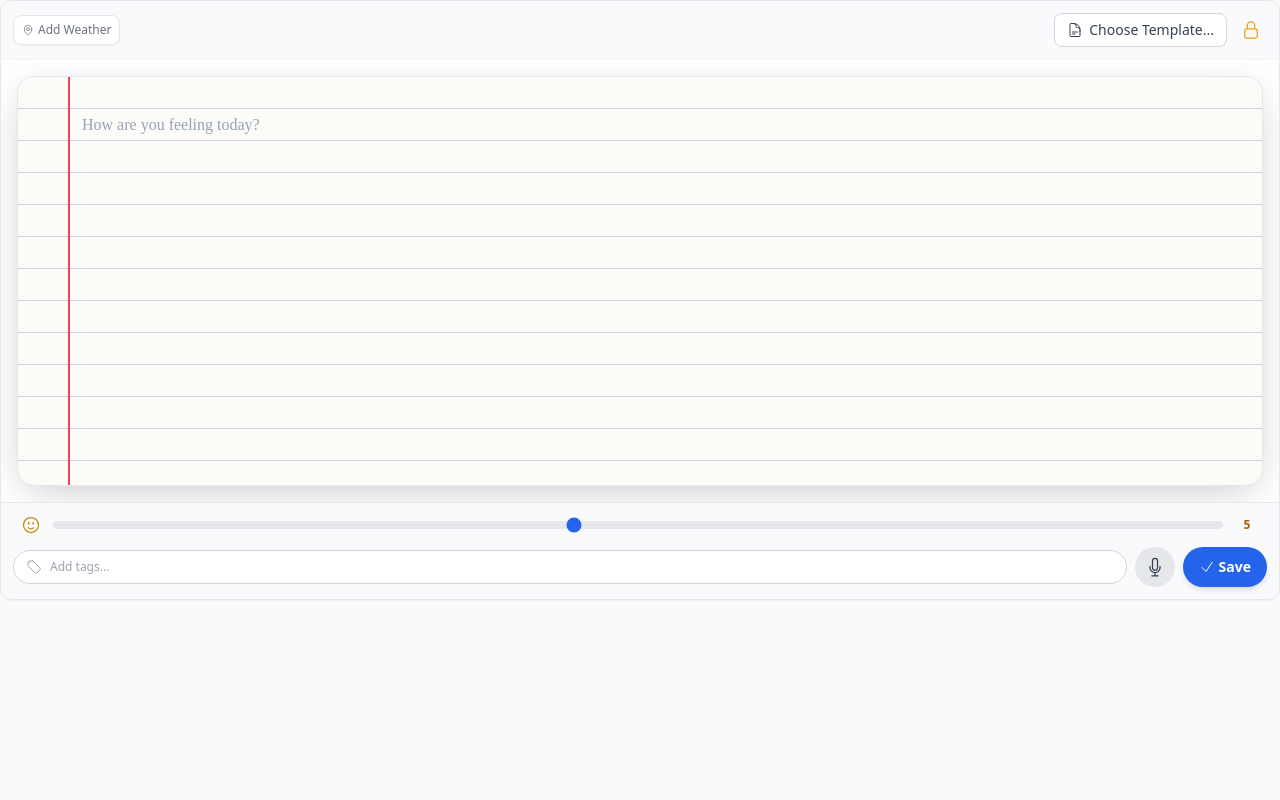
Test: JournalEditor tag suggestions and smart mood (PROJ-59) › offers previously-used tags fetched via useFirestoreQuery as suggestions
The image size is (1280, 800).
Type "Gra" into the field with placeholder "Add tags..." at (137, 567), box [50,559,224,575]
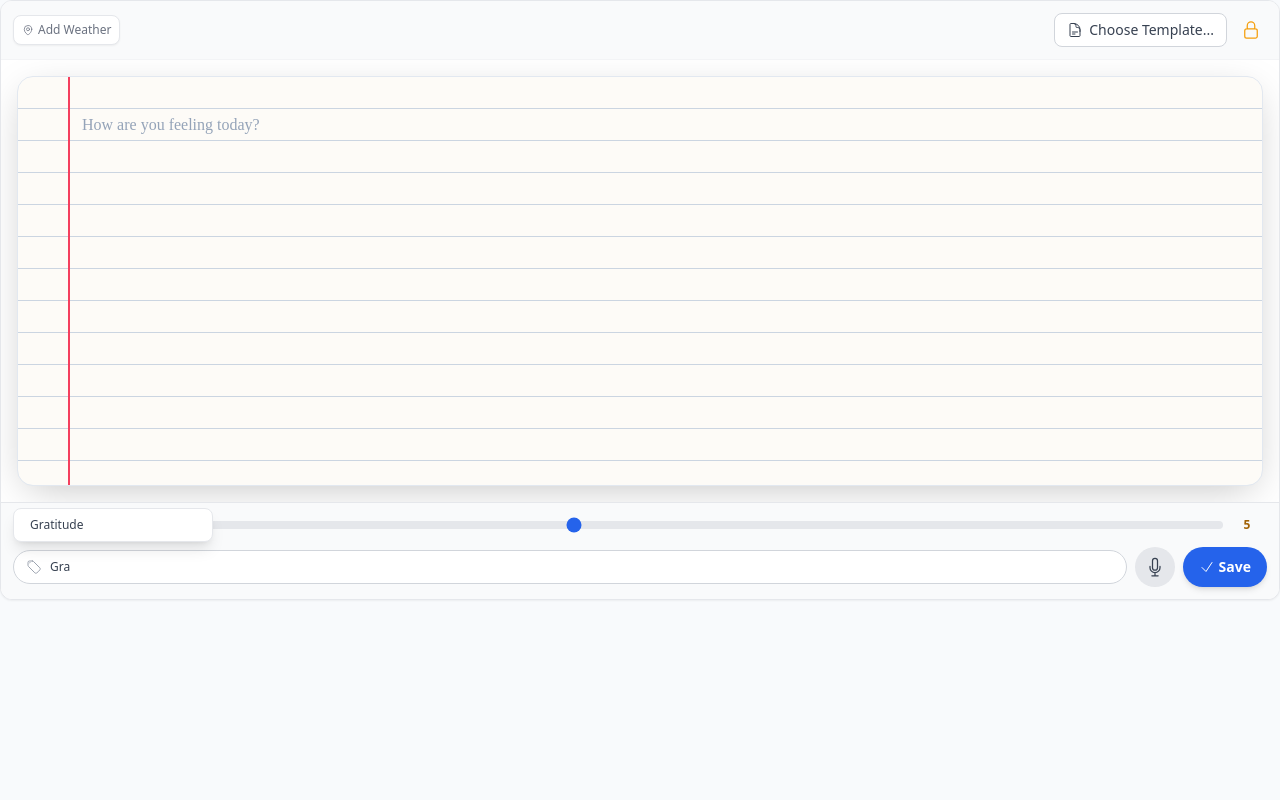
Result: the button "Gratitude" is shown at [14,509,212,541]
